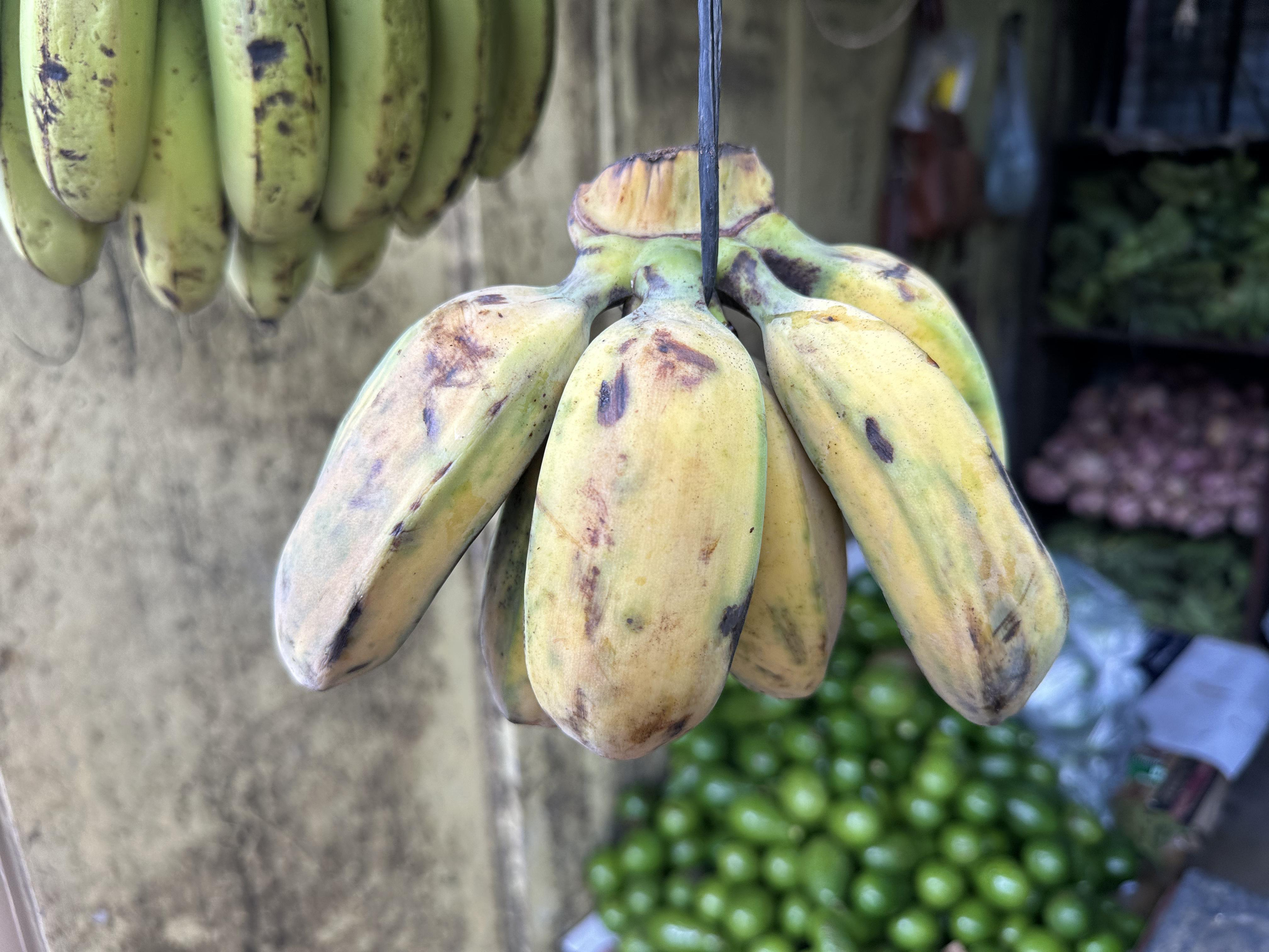underripe: (275, 254, 1067, 759)
